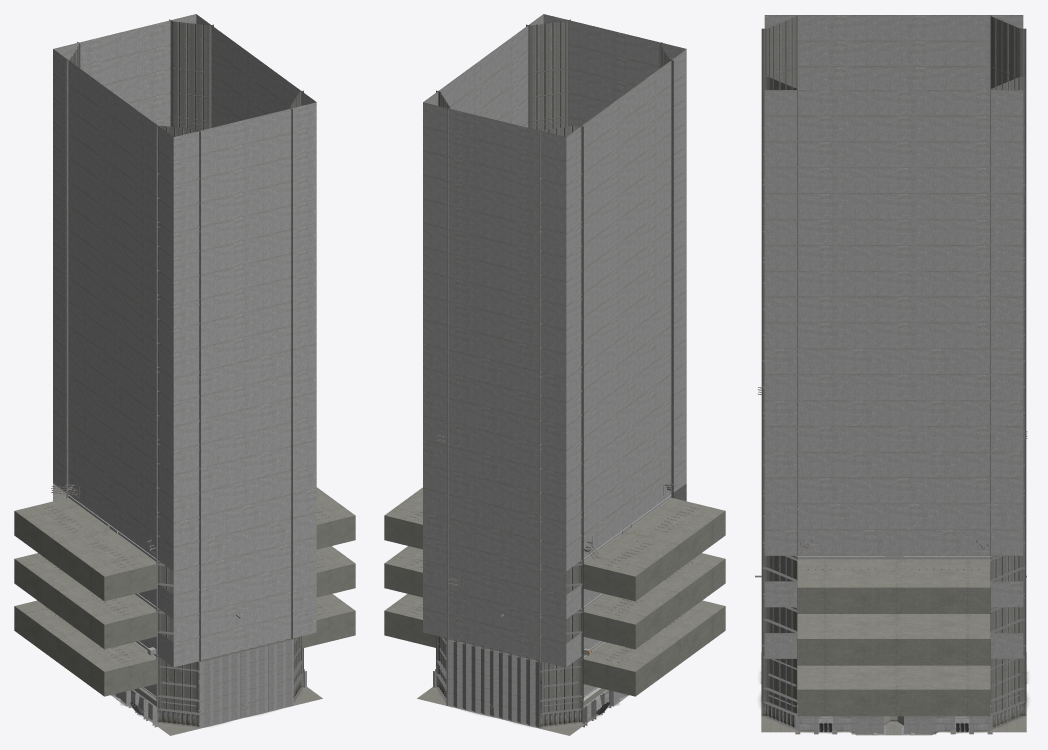
The picture shows the model from 3 angles, left to right: view 1: azimuth 30°, elevation 25°; view 2: azimuth 150°, elevation 25°; view 3: azimuth 270°, elevation 25°; orthographic projection. The views are drawn at different scales.
Parts seen in each view (by area): view 1: Lab_01_1, Lab_02_2; view 2: Lab_01_1, Lab_02_2; view 3: Lab_01_1, Lab_02_2, Decals_0.
Part boxes in pixels (<box>): Lab_01_1: <box>14,14,355,735</box>; Lab_02_2: <box>45,19,325,714</box>; Lab_01_1: <box>384,14,725,735</box>; Lab_02_2: <box>413,19,695,714</box>; Lab_01_1: <box>761,15,1026,735</box>; Lab_02_2: <box>755,16,1027,732</box>; Decals_0: <box>759,561,1028,734</box>.
Size of the model in its own units: 225 by 515 by 202.
6 materials, 6 textured.
